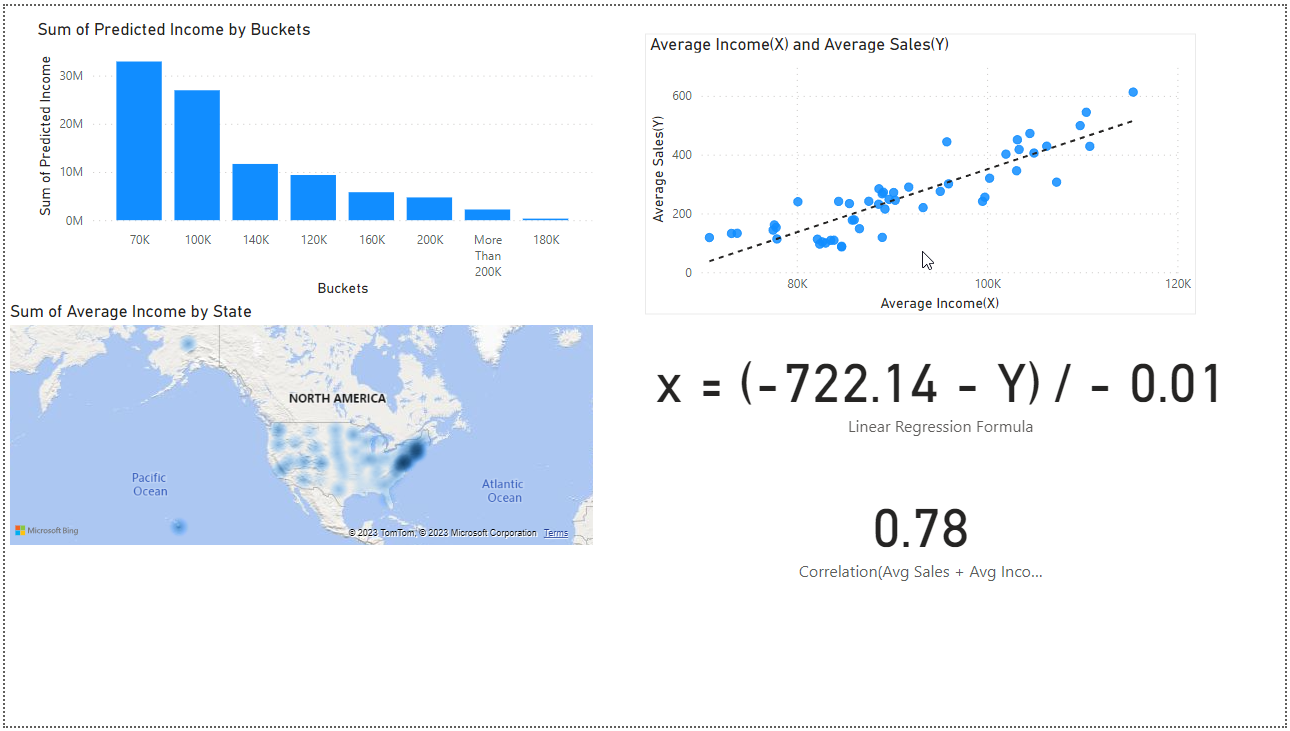

This screenshot's page, from the dashboard's own definition file:
{"tool":"powerbi","page":{"name":"Summery","canvas":[1280,720],"ordinal":0},"visuals":[{"type":"columnChart","fields":{"Category":["Customer List.Buckets"],"Y":["Sum(Customer List.predicted)"]},"box":[28.1,12.2,564.8,282.4],"z":0},{"type":"map","fields":{"Category":["Avg Income by State.State"],"Size":["Sum(Avg Income by State.Average Income)"]},"box":[0,294.4,593.3,248.9],"z":1000},{"type":"scatterChart","fields":{"X":["Regression Table.Average Income(X)"],"Y":["Regression Table.Average Sales(Y)"]},"box":[640.5,26.9,551.3,282.4],"z":2000},{"type":"card","fields":{"Values":["Regression Table.Correlation"]},"box":[783.6,457.2,264,136.9],"z":3000},{"type":"card","fields":{"Values":["Regression Table.Linear Regression Formula"]},"box":[592.9,319,687,124.7],"z":4000}]}

Visuals, with their boxes in screenshot pixels (x1, y1, x2, y2), scaled from the page's 1280x720 canvas onto the 1290x731 screenshot:
columnChart - Customer List.Buckets x Sum(Customer List.predicted): {"x1": 28, "y1": 12, "x2": 598, "y2": 299}
map - Avg Income by State.State x Sum(Avg Income by State.Average Income): {"x1": 0, "y1": 299, "x2": 598, "y2": 552}
scatterChart - Regression Table.Average Income(X) x Regression Table.Average Sales(Y): {"x1": 646, "y1": 27, "x2": 1201, "y2": 314}
card - Regression Table.Correlation: {"x1": 790, "y1": 464, "x2": 1056, "y2": 603}
card - Regression Table.Linear Regression Formula: {"x1": 598, "y1": 324, "x2": 1289, "y2": 450}
